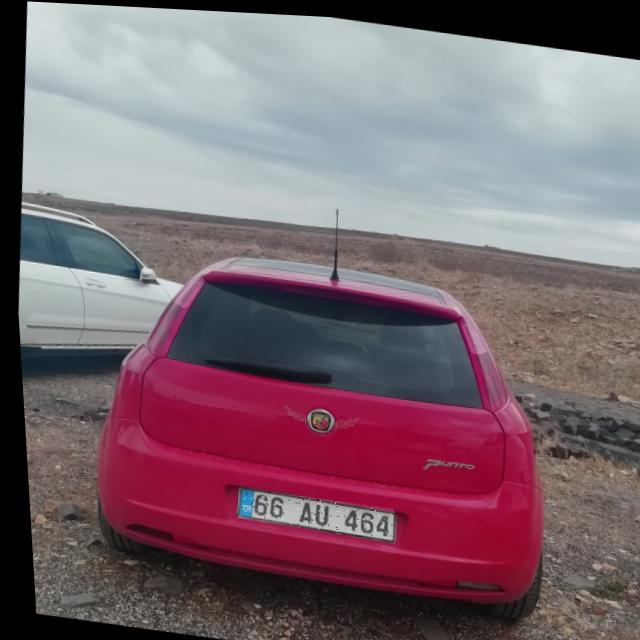license_plate: (230, 485, 390, 535)
